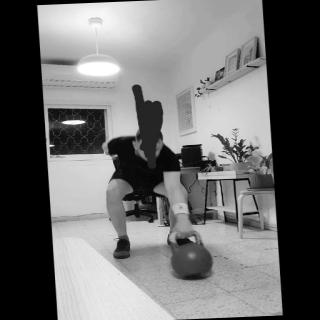kettlebell: (161, 222, 226, 282)
